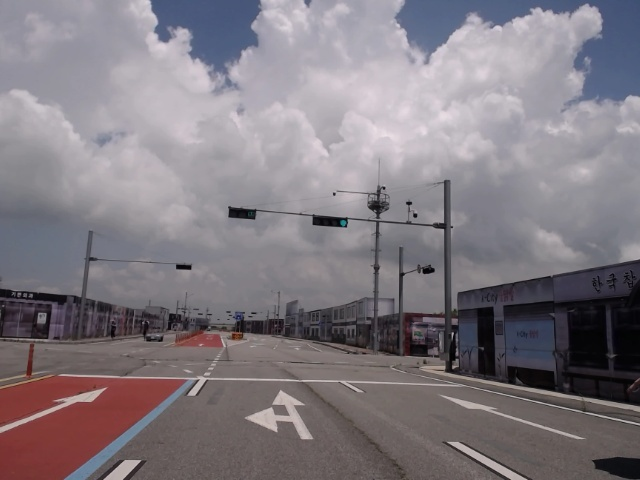straight_green_4: (312, 215, 349, 228)
